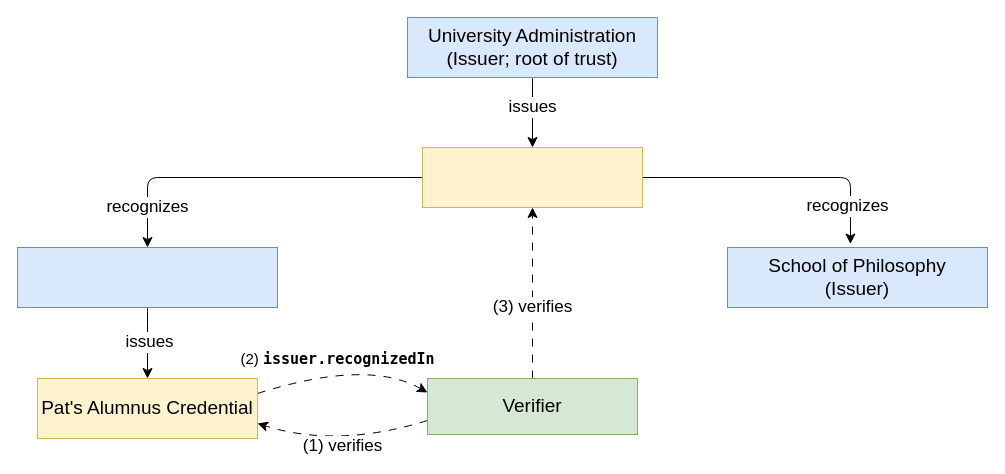
The diagram is 1005 pixels wide and 474 high, and some of its shapes have lost their labels. The centre of each missing label's shape, as x and y in pixels:
Recognition Credential: [532,177]
School of Computer Science (Issuer): [147,277]
